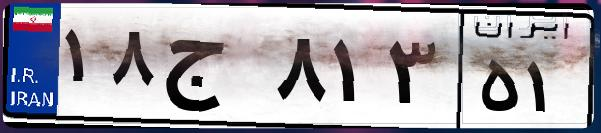1: (330, 28, 385, 110), (57, 26, 110, 100), (525, 38, 570, 115)
3: (385, 28, 445, 110)
5: (475, 38, 525, 113)
8: (270, 28, 330, 110), (110, 28, 158, 98)
ج: (158, 20, 270, 120)
